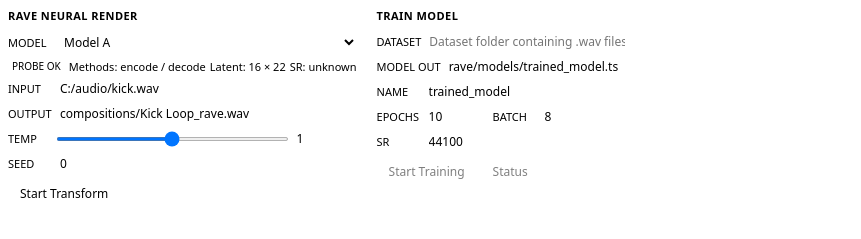
NeuralPanel › (d) a finished notification reveals the Import controls
What coordinates should you click on to do the following:
click the button "Start Transform"
I would click on:
 (64, 194)
Its box is [8,182,120,205].
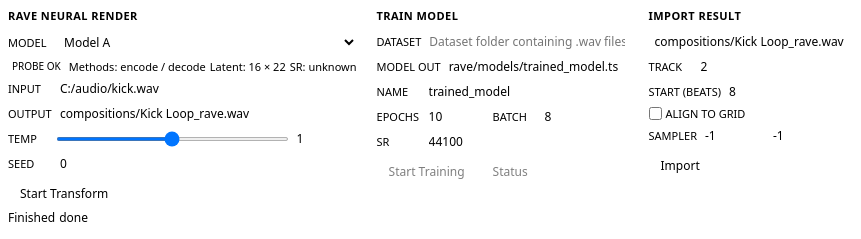
Check: the text "Import Result" is shown, box [648,8,741,23]
Check: the text "compositions/Kick Loop_rave.wav" is shown, box [654,33,844,50]
Check: the button "Import" is shown, box [648,154,712,177]
